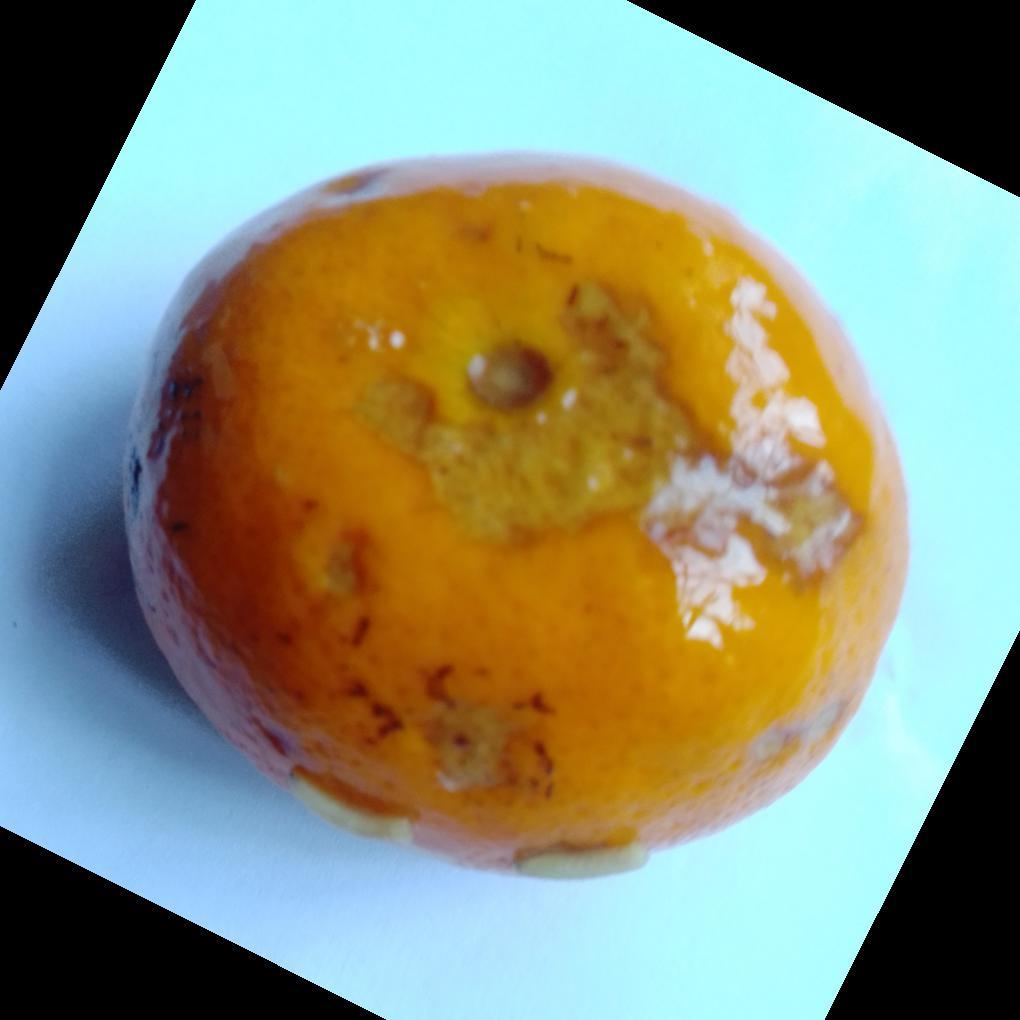FreshOrange: (120, 158, 911, 882)
